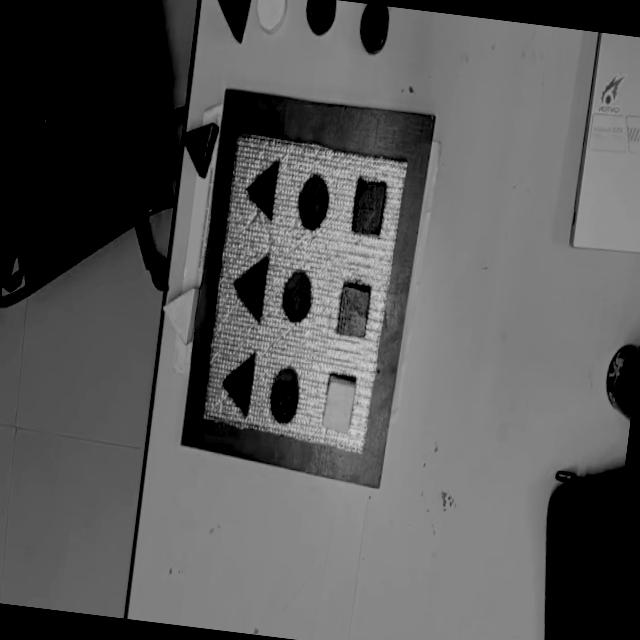bcircle: (304, 0, 338, 36)
bcube: (348, 176, 388, 238)
btriangle: (208, 0, 250, 41)
mtcircle: (294, 171, 332, 232), (266, 364, 302, 426), (278, 266, 316, 324)
mttriangle: (228, 246, 272, 324), (217, 348, 257, 420), (241, 152, 282, 222)
rcircle: (356, 3, 391, 56)
rcube: (334, 280, 372, 340)
rtriangle: (180, 118, 220, 180)
wb: (198, 130, 410, 460)
ycircle: (252, 0, 288, 35)
ycube: (320, 372, 358, 435)
ytriangle: (157, 281, 200, 347)
